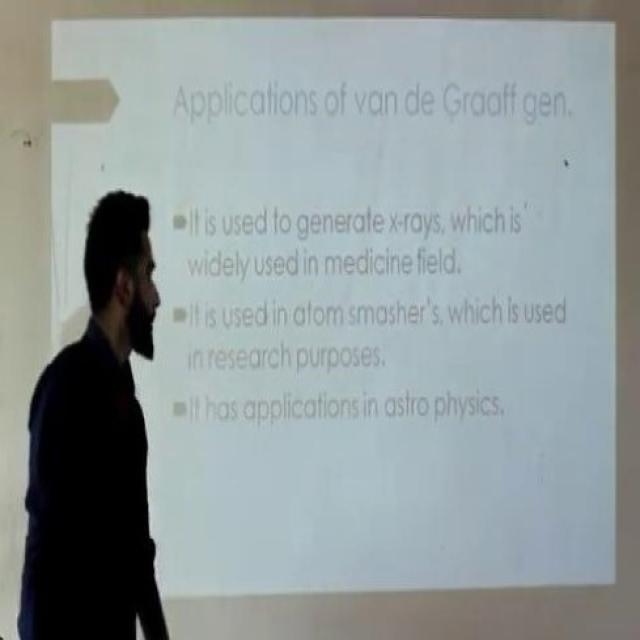Instructor: (25, 168, 160, 625)
Slide: (51, 18, 617, 604)
